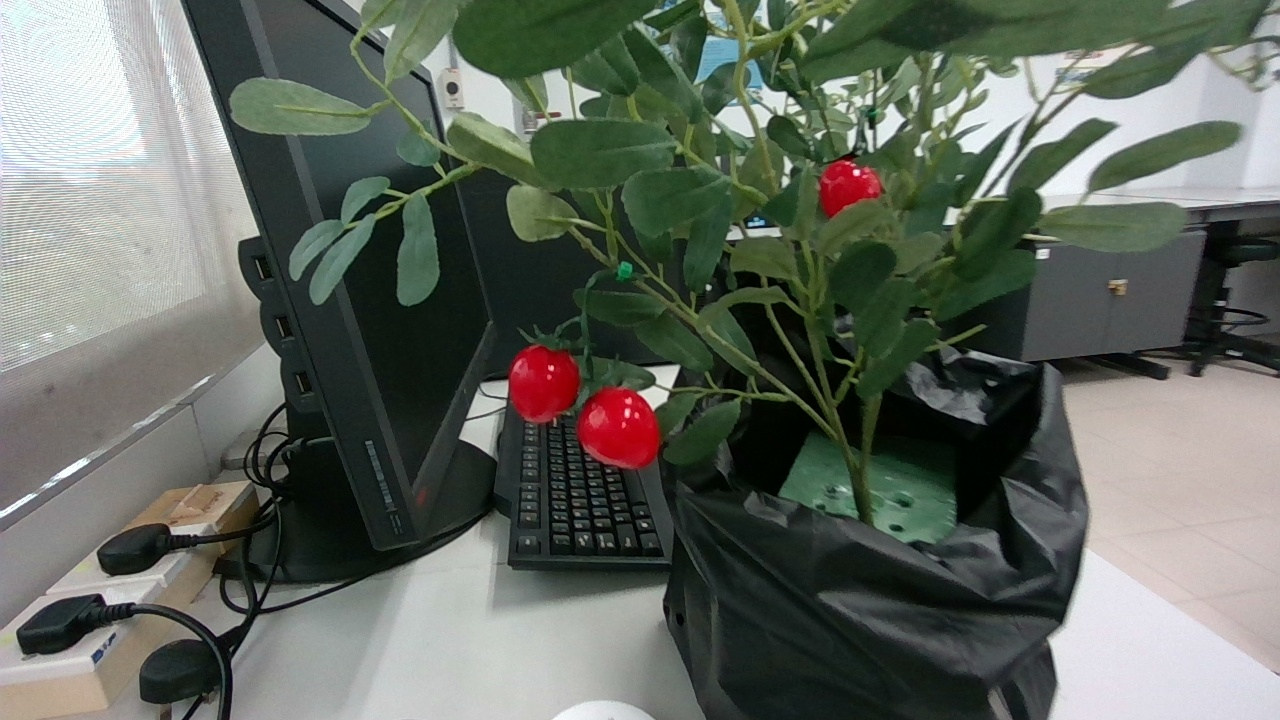peduncle: (581, 270, 605, 316), (856, 111, 868, 140)
strawberry: (577, 386, 662, 470), (509, 344, 581, 424), (821, 157, 883, 216)
